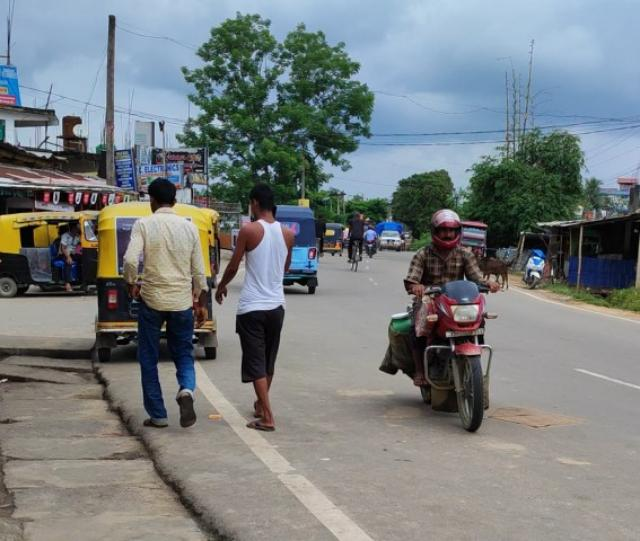licensePlate: (446, 328, 490, 338)
motorcycle: (387, 210, 497, 430)
withHelmet: (429, 210, 462, 246)
